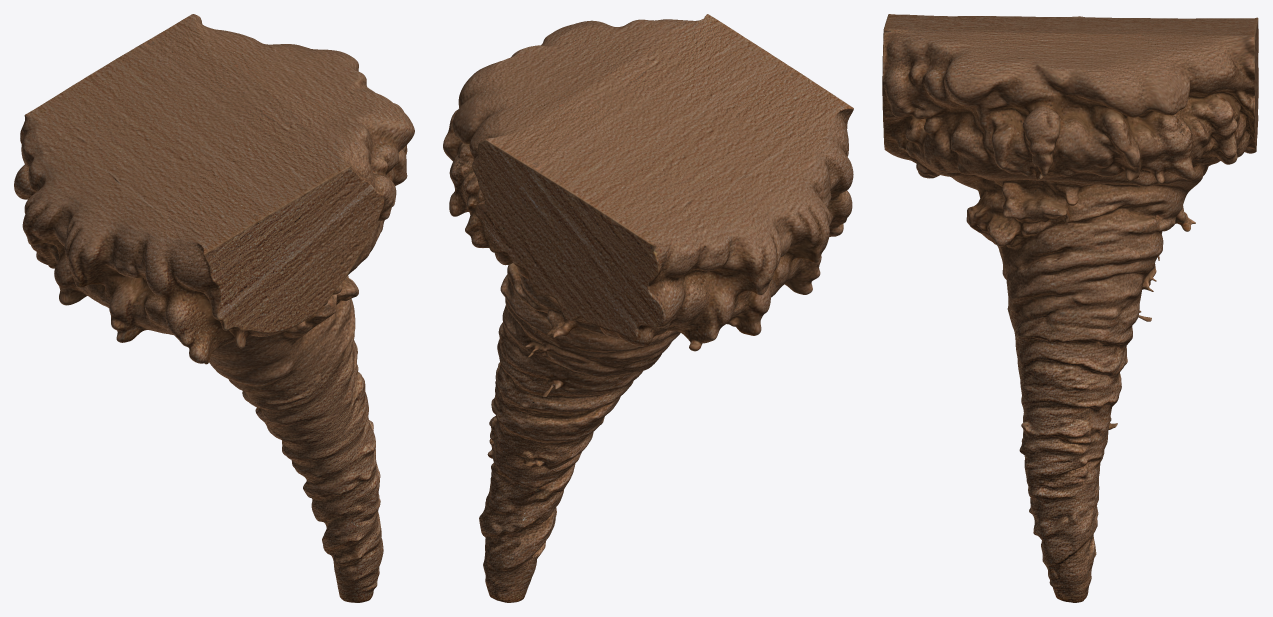
File: tornado-3d-model-b5b70771.glb
The picture shows the model from 3 angles, left to right: view 1: azimuth 30°, elevation 25°; view 2: azimuth 150°, elevation 25°; view 3: azimuth 270°, elevation 25°; orthographic projection. The views are drawn at different scales.
Visible parts, largest first — view 1: tripo_node_cfc414f8-7ef2-4cbd-a3f8-847f3445dc99; view 2: tripo_node_cfc414f8-7ef2-4cbd-a3f8-847f3445dc99; view 3: tripo_node_cfc414f8-7ef2-4cbd-a3f8-847f3445dc99.
Boxes of the visible parts, box(x1,y1,x2,y2) form: tripo_node_cfc414f8-7ef2-4cbd-a3f8-847f3445dc99: box(14, 14, 414, 602); tripo_node_cfc414f8-7ef2-4cbd-a3f8-847f3445dc99: box(443, 14, 853, 602); tripo_node_cfc414f8-7ef2-4cbd-a3f8-847f3445dc99: box(882, 14, 1258, 602).
Size of the model in its own units: 0.6641 by 1 by 0.6491.
1 material, 1 textured.
